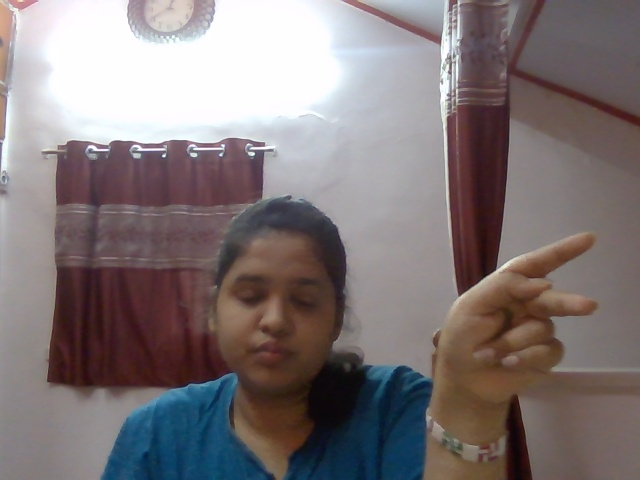p: (425, 231, 618, 401)
